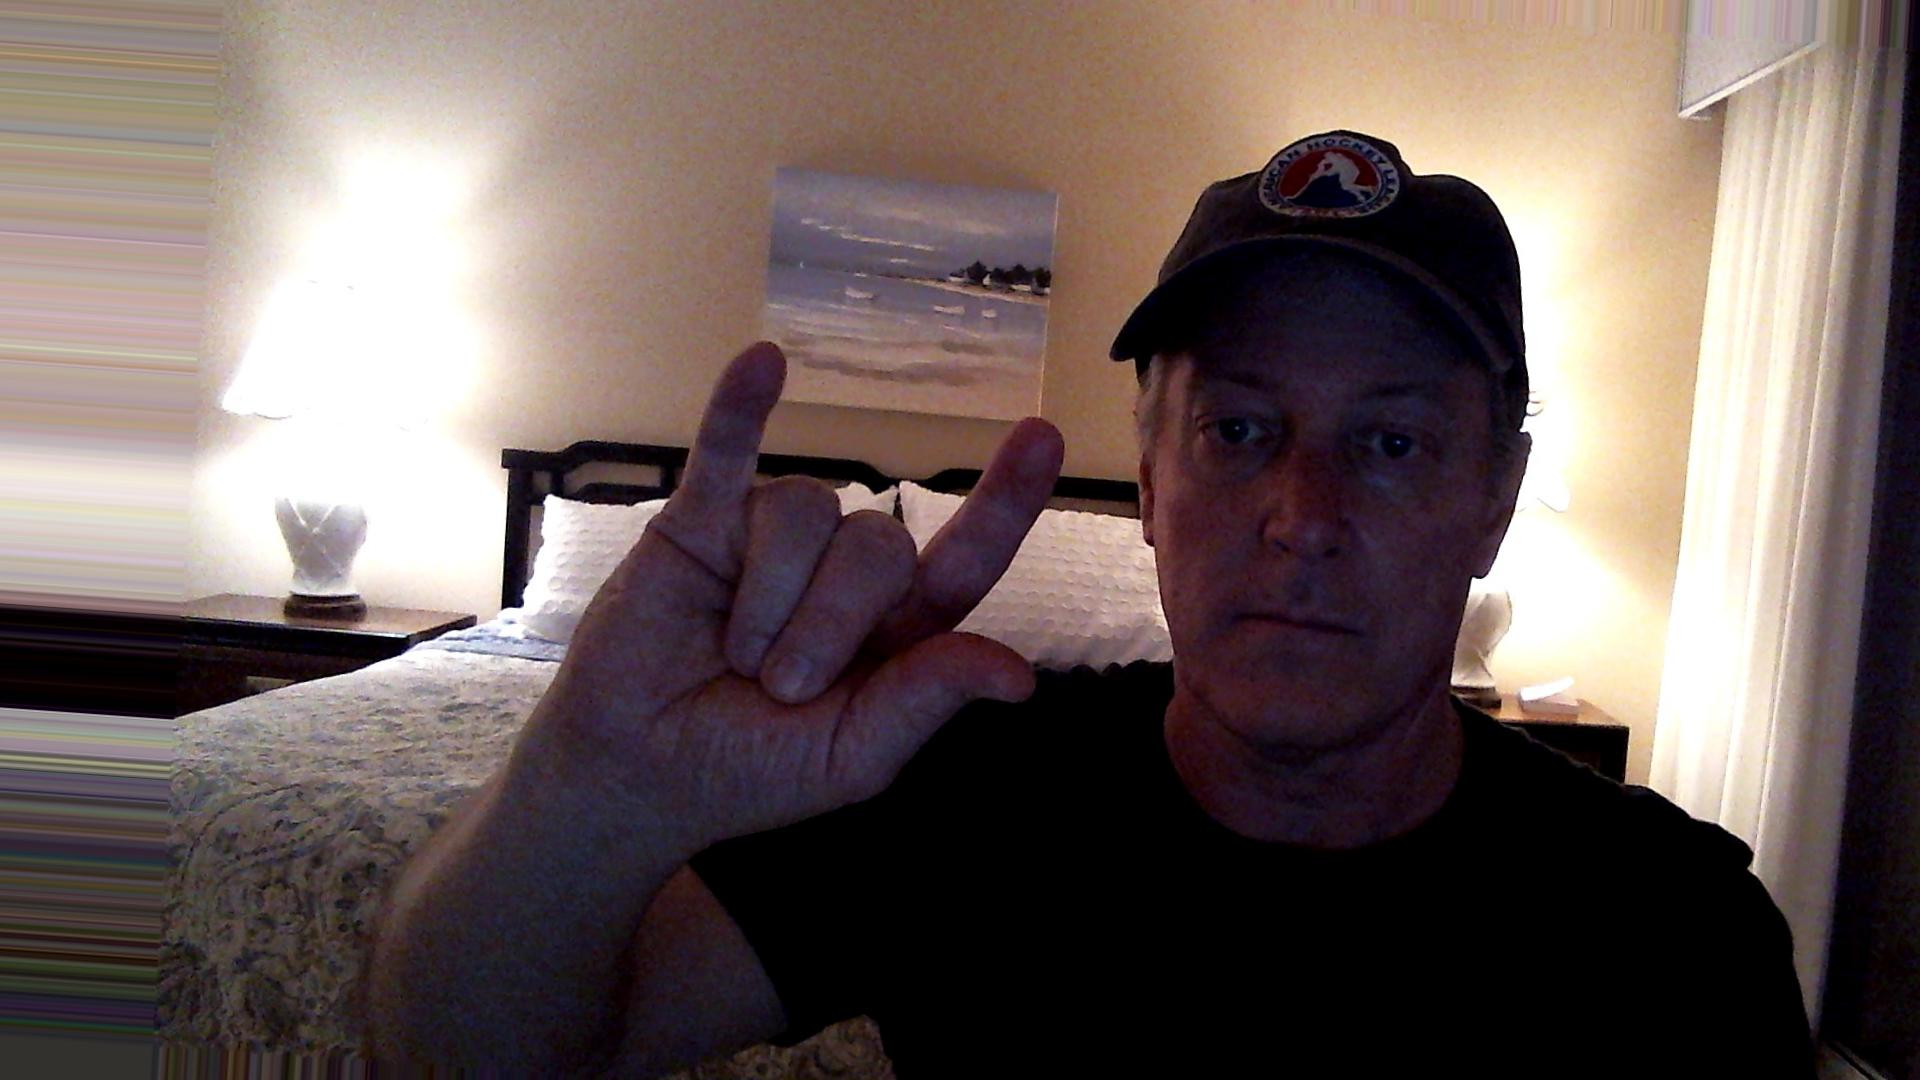I Love You: (545, 320, 1073, 843)
